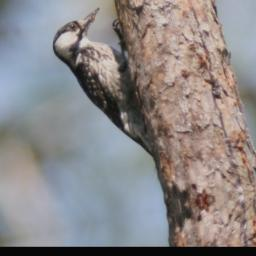Woodpecker: (46, 0, 155, 182)
